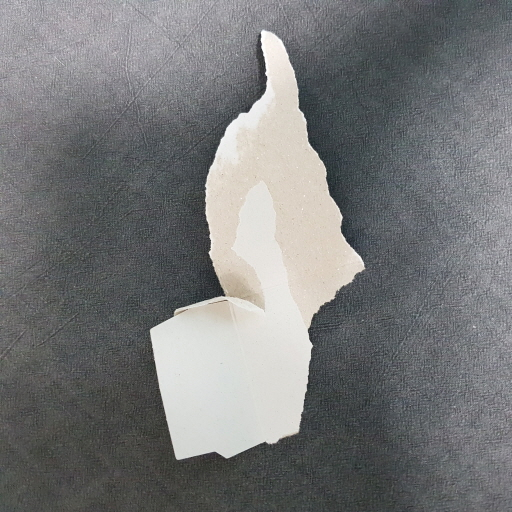Paper_3: (135, 24, 370, 467)
